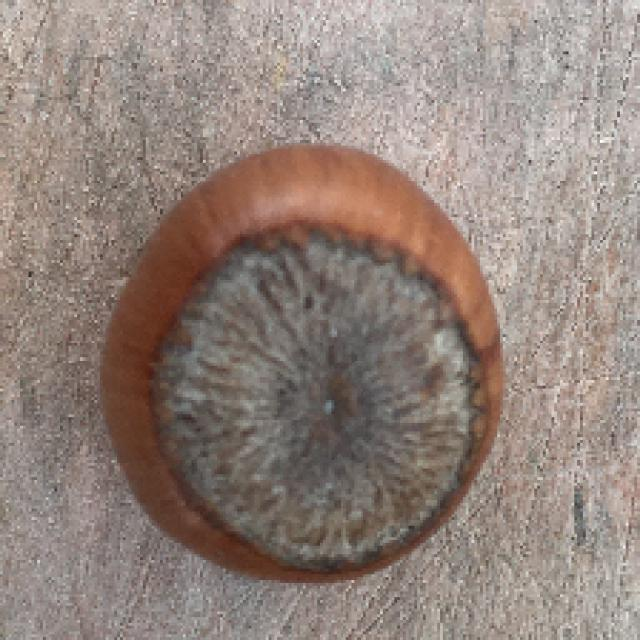qualityHazelnut: (94, 121, 510, 589)
